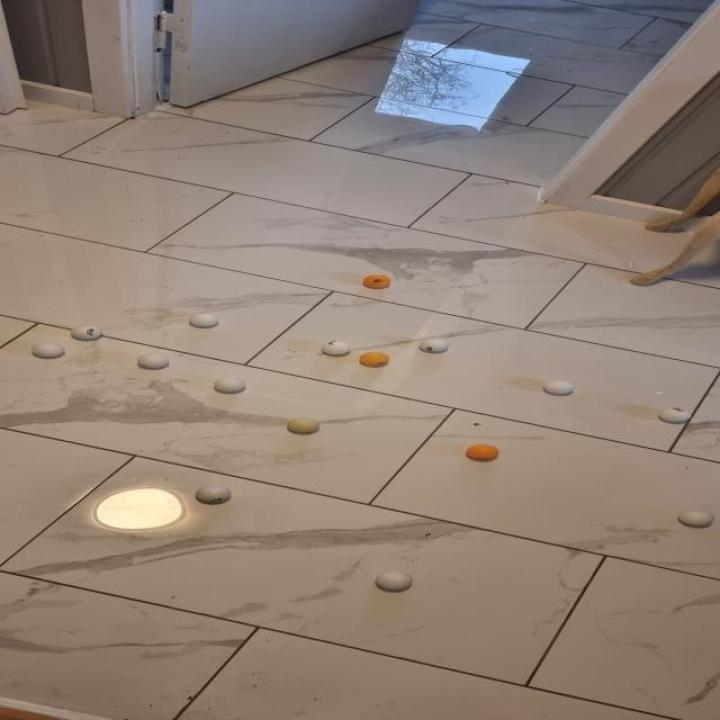orange: (466, 444, 500, 461), (361, 273, 392, 289), (360, 351, 392, 366)
white: (375, 570, 414, 590), (677, 510, 716, 526), (286, 417, 320, 434), (195, 486, 231, 502), (30, 342, 66, 358), (136, 353, 170, 369), (70, 324, 103, 340), (213, 376, 248, 391), (658, 407, 692, 422), (320, 340, 352, 355), (543, 380, 575, 394), (418, 338, 449, 352), (189, 312, 218, 326)
